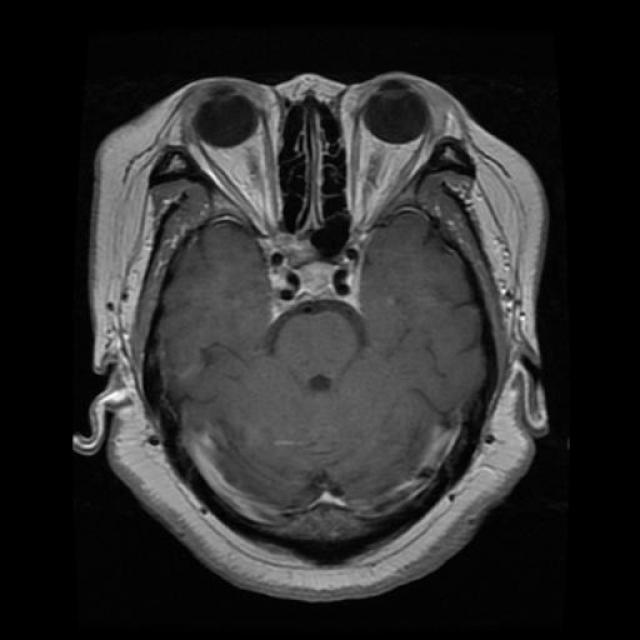Brain-Tumor: (276, 230, 334, 264)
eye: (163, 60, 294, 243), (341, 60, 453, 238)
